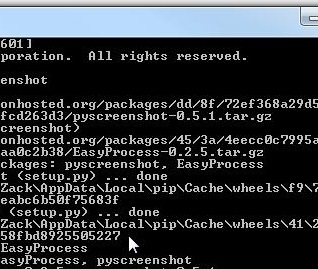cursor: (126, 234, 141, 255)
